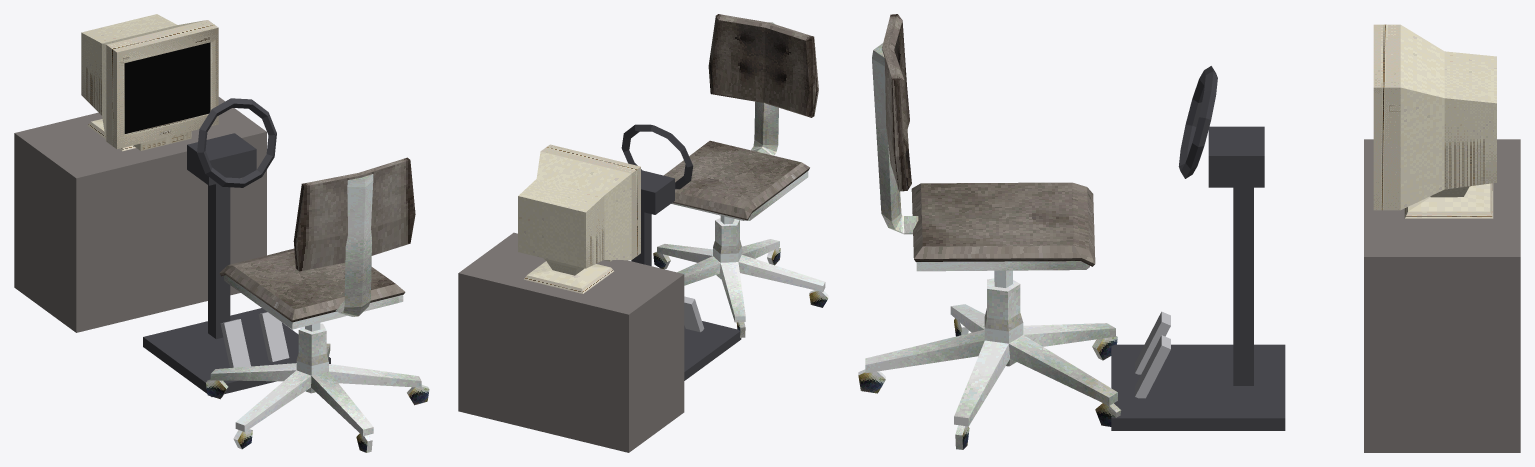
File: station_sim.glb
3 views of the same model, side by side, from view 1: azimuth 30°, elevation 25°; view 2: azimuth 150°, elevation 25°; view 3: azimuth 270°, elevation 25° (orthographic). The views are drawn at different scales.
Parts seen in each view (by area): view 1: SimStand, SimChair, SimCRT, SimFoot, SimPost, SimWheelBase, SimWheel, SimPedalL, SimPedalR; view 2: SimStand, SimChair, SimCRT, SimFoot, SimWheelBase, SimWheel, SimPost, SimPedalL; view 3: SimStand, SimChair, SimCRT, SimFoot, SimPost, SimWheelBase, SimWheel, SimPedalR, SimPedalL.
Part boxes in pixels (left/top/right/bottom): SimStand: left=14, top=97, right=266, bottom=332; SimChair: left=206, top=157, right=429, bottom=452; SimCRT: left=81, top=14, right=218, bottom=151; SimFoot: left=143, top=308, right=330, bottom=396; SimPost: left=208, top=183, right=230, bottom=339; SimWheelBase: left=187, top=133, right=256, bottom=185; SimWheel: left=197, top=98, right=276, bottom=187; SimPedalL: left=220, top=319, right=250, bottom=367; SimPedalR: left=258, top=312, right=289, bottom=362; SimStand: left=458, top=232, right=684, bottom=452; SimChair: left=653, top=14, right=829, bottom=337; SimCRT: left=518, top=144, right=640, bottom=293; SimFoot: left=684, top=321, right=741, bottom=380; SimWheelBase: left=641, top=170, right=674, bottom=214; SimWheel: left=621, top=124, right=693, bottom=189; SimPost: left=631, top=211, right=651, bottom=265; SimPedalL: left=684, top=296, right=704, bottom=332; SimStand: left=1364, top=139, right=1520, bottom=452; SimChair: left=858, top=14, right=1121, bottom=449; SimCRT: left=1373, top=24, right=1496, bottom=218; SimFoot: left=1111, top=344, right=1285, bottom=430; SimPost: left=1233, top=187, right=1253, bottom=385; SimWheelBase: left=1208, top=126, right=1264, bottom=187; SimWheel: left=1178, top=66, right=1217, bottom=178; SimPedalR: left=1135, top=335, right=1170, bottom=398; SimPedalL: left=1135, top=311, right=1170, bottom=374.
Size of the model in its own units: 0.8196 by 1.1 by 1.9.
5 materials, 2 textured.
